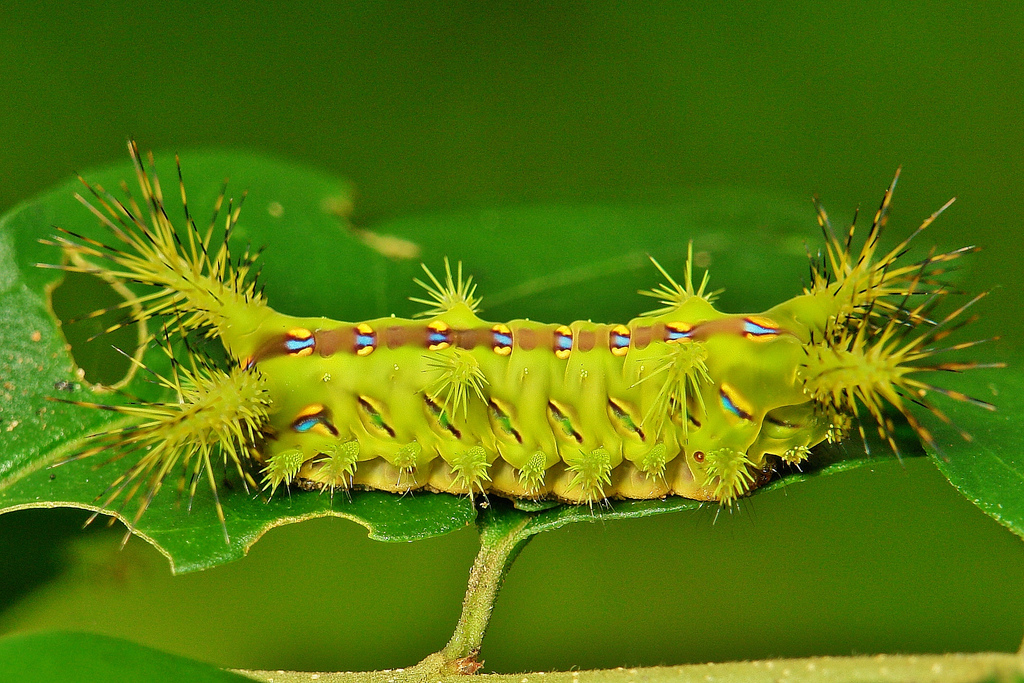Pest! (nettle_caterpillar): (85, 170, 983, 521)
